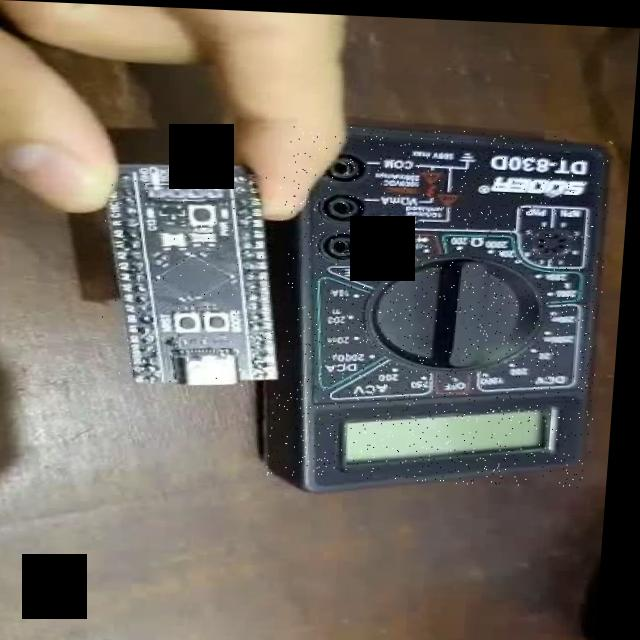multimeter: (273, 120, 616, 484)
stm32: (99, 164, 297, 387)
